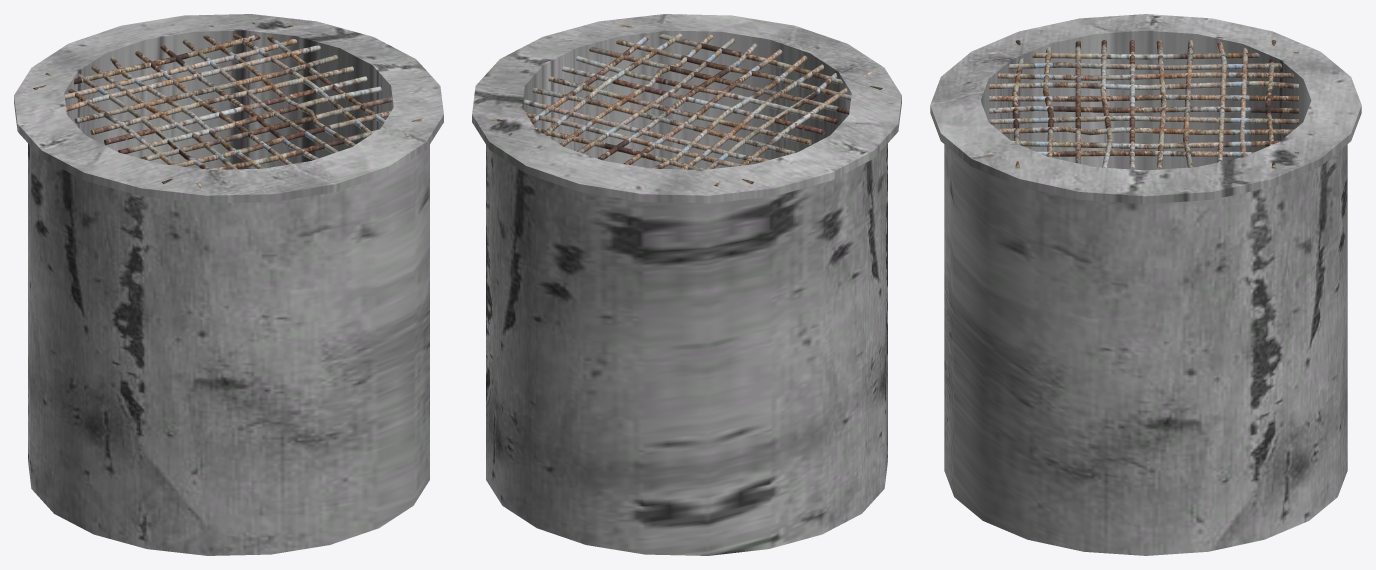
Rendered from 蒸気が出る筒.fbx.
The picture shows the model from 3 angles, left to right: view 1: azimuth 30°, elevation 25°; view 2: azimuth 150°, elevation 25°; view 3: azimuth 270°, elevation 25°; orthographic projection.
Parts seen in each view (by area): view 1: 筒, 金網; view 2: 筒, 金網; view 3: 筒, 金網.
Part boxes in pixels (box(x1,y1,x2,y2)): 筒: box(14, 14, 443, 555); 金網: box(33, 22, 424, 188); 筒: box(472, 14, 901, 555); 金網: box(491, 21, 882, 186); 筒: box(930, 14, 1361, 555); 金網: box(989, 40, 1298, 169).
Size of the model in its own units: 209 by 200 by 209.
2 materials, 2 textured.
